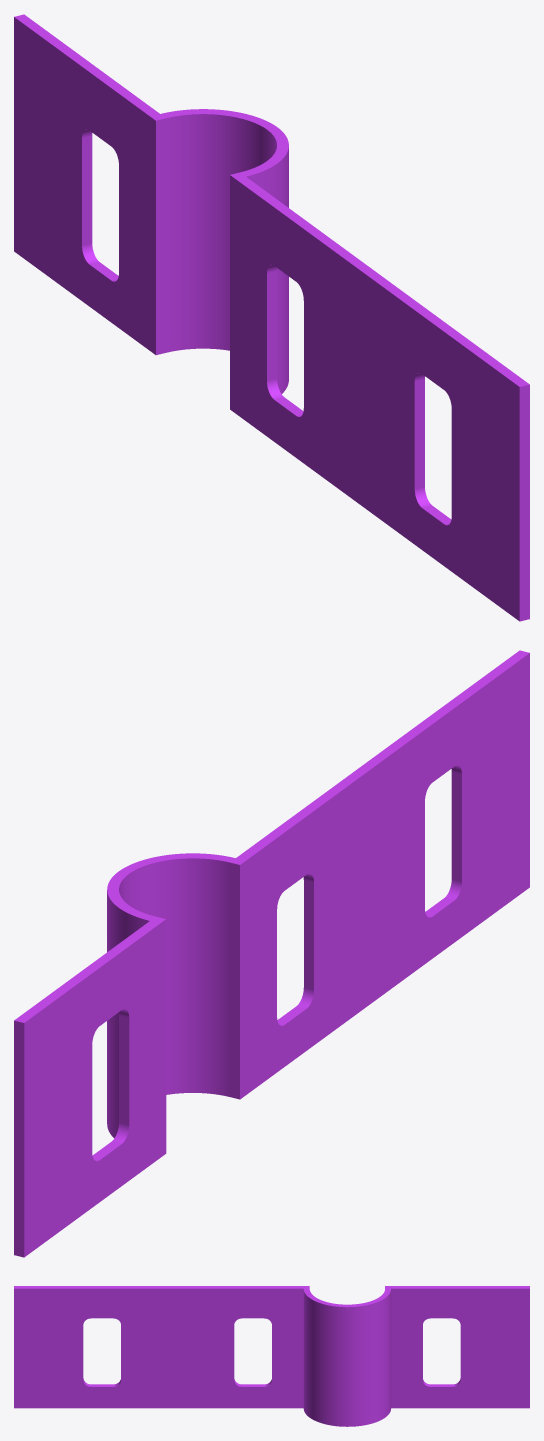
The model's file is pared03.gltf.
The picture shows the model from 3 angles, top to bottom: view 1: azimuth 30°, elevation 25°; view 2: azimuth 150°, elevation 25°; view 3: azimuth 270°, elevation 25°; orthographic projection. The views are drawn at different scales.
Visible parts, largest first — view 1: Object_25; view 2: Object_25; view 3: Object_25.
Boxes of the visible parts, x1=… form: Object_25: x1=14, y1=14, x2=529, y2=621; Object_25: x1=14, y1=650, x2=529, y2=1257; Object_25: x1=14, y1=1286, x2=529, y2=1426.
Size of the model in its own units: 1.32 by 3.5 by 13.68.
